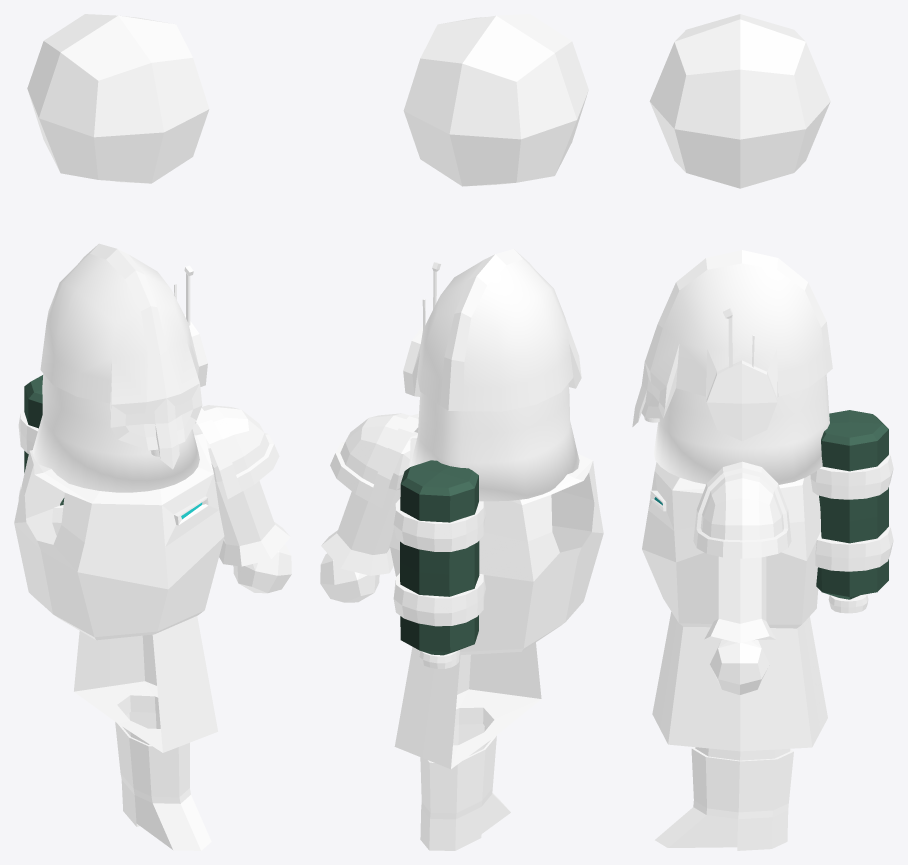
File: Smoothboy.glb
3 renders of one model, left to right at view 1: azimuth 30°, elevation 25°; view 2: azimuth 150°, elevation 25°; view 3: azimuth 270°, elevation 25°, orthographic. The views are drawn at different scales.
Parts seen in each view (by area): view 1: Breastplate, Body, Extra Quadsphere just in case, Head, Cloth, Armour Pad, Oxygen Tank; view 2: Body, Extra Quadsphere just in case, Head, Breastplate, Cloth, Oxygen Tank, Armour Pad, Oxygen Tank Ring.001, Oxygen Tank Ring, Oxygen Tank Ring.002; view 3: Body, Head, Extra Quadsphere just in case, Breastplate, Cloth, Oxygen Tank, Armour Pad, Oxygen Tank Ring, Oxygen Tank Ring.001, Oxygen Tank Ring.002.
Boxes of the visible parts, left/top/right/bottom form: Breastplate: left=14, top=432, right=224, bottom=640; Body: left=74, top=423, right=291, bottom=850; Extra Quadsphere just in case: left=27, top=14, right=209, bottom=183; Head: left=40, top=243, right=207, bottom=469; Cloth: left=32, top=374, right=199, bottom=492; Armour Pad: left=195, top=405, right=279, bottom=499; Oxygen Tank: left=24, top=375, right=64, bottom=505; Body: left=320, top=431, right=541, bottom=850; Extra Quadsphere just in case: left=403, top=14, right=588, bottom=186; Head: left=403, top=249, right=581, bottom=411; Breastplate: left=390, top=438, right=603, bottom=654; Cloth: left=410, top=383, right=579, bottom=501; Oxygen Tank: left=400, top=460, right=479, bottom=655; Armour Pad: left=330, top=413, right=418, bottom=509; Oxygen Tank Ring.001: left=393, top=573, right=485, bottom=626; Oxygen Tank Ring: left=393, top=499, right=485, bottom=551; Oxygen Tank Ring.002: left=419, top=650, right=460, bottom=668; Body: left=652, top=555, right=827, bottom=850; Head: left=632, top=250, right=832, bottom=441; Extra Quadsphere just in case: left=649, top=14, right=830, bottom=188; Breastplate: left=642, top=462, right=820, bottom=628; Cloth: left=653, top=374, right=829, bottom=484; Oxygen Tank: left=816, top=410, right=888, bottom=599; Armour Pad: left=693, top=461, right=791, bottom=558; Oxygen Tank Ring: left=810, top=451, right=893, bottom=499; Oxygen Tank Ring.001: left=815, top=523, right=893, bottom=571; Oxygen Tank Ring.002: left=828, top=594, right=868, bottom=613.
Bounding box in the file's own units: 2.68 × 8.21 × 2.42.
